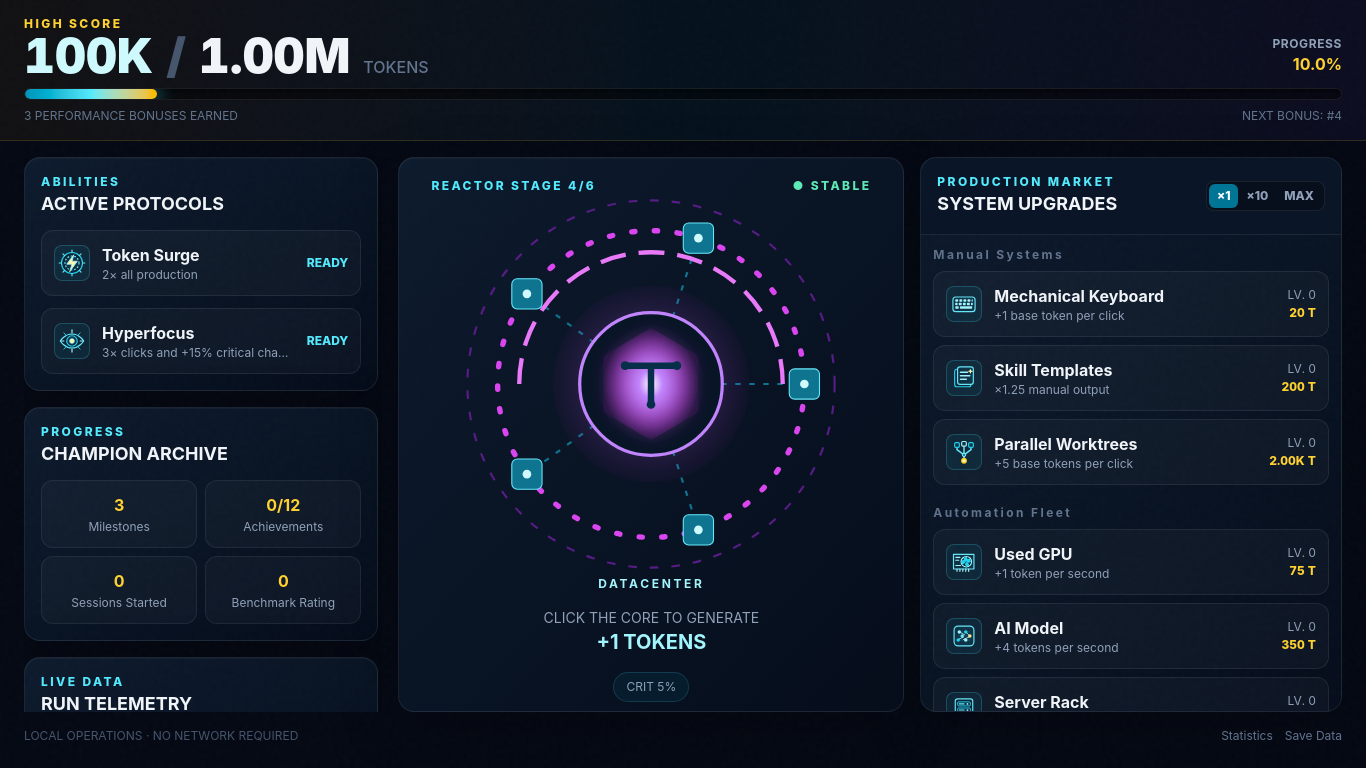
Scenario: Tokenmaxxer dashboard › plays the Hyperfocus activation asset
The image size is (1366, 768).
Click the button "Hyperfocus": click(72, 341) [41,308,361,374]
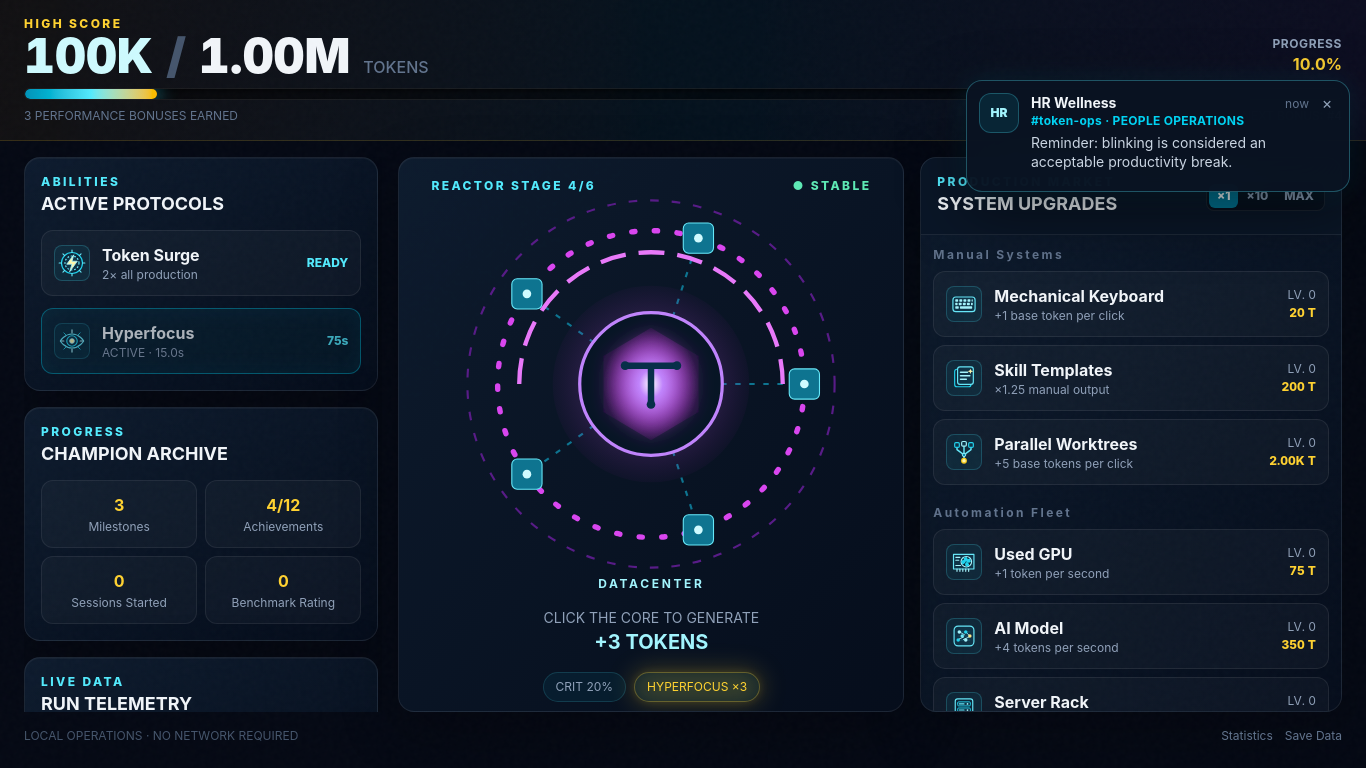
Expected: the text "CRIT 20%" is shown, [543,672,626,702]
